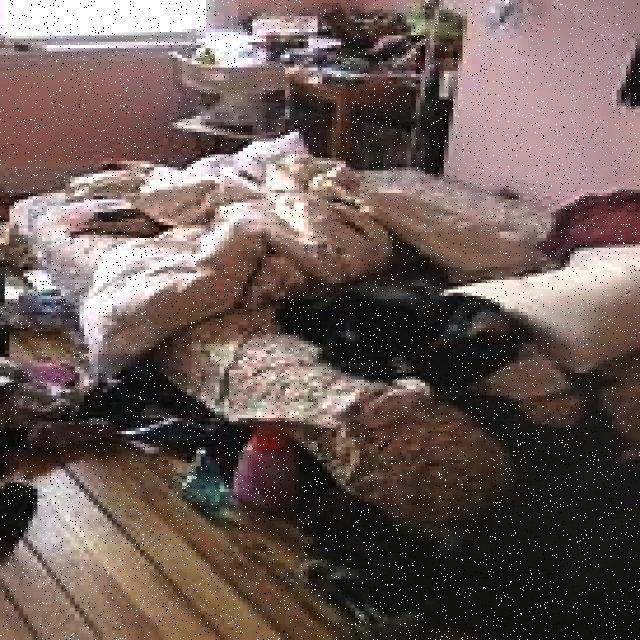bed: (11, 137, 640, 519)
